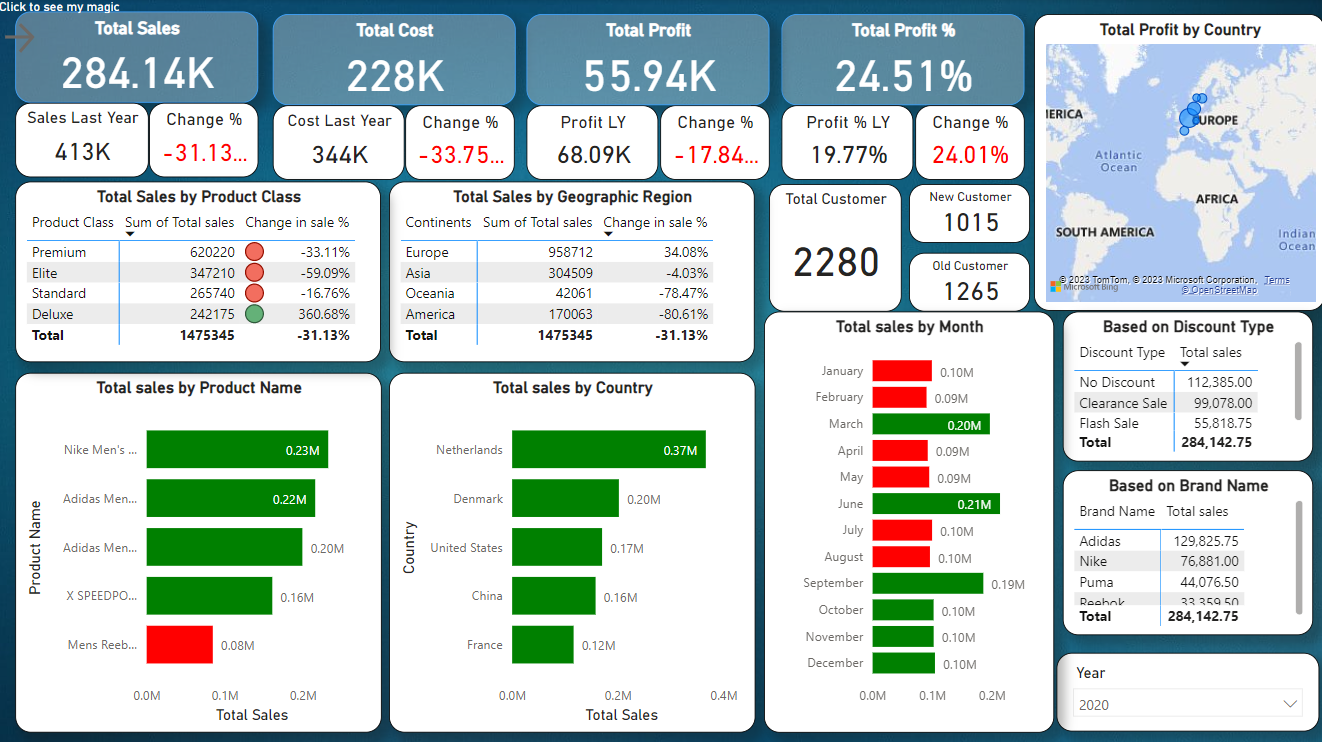

The dashboard page shown, as its layout file describes it:
{"tool":"powerbi","page":{"name":"Slide 1 (Final)","canvas":[1280,720],"ordinal":0},"visuals":[{"type":"card","title":"Total Sales ","fields":{"Values":["Measures Table.Total sales 2"]},"box":[15.9,12.3,234.2,88.3],"z":0},{"type":"card","title":"Total Cost ","fields":{"Values":["Measures Table.Total Cost 2"]},"box":[263.7,14.7,234.2,88.3],"z":1000},{"type":"card","title":"Total Profit %","fields":{"Values":["Measures Table.Total Profit % 2"]},"box":[755.4,14.7,234.2,88.3],"z":2000},{"type":"card","title":"Cost Last Year","fields":{"Values":["Measures Table.Cost Last Year"]},"box":[263.7,103,127.5,72.4],"z":3000},{"type":"card","title":"Sales Last Year","fields":{"Values":["Measures Table.Sales Last Year 2"]},"box":[15.9,100.6,128.8,72.4],"z":4000},{"type":"card","title":"Profit % LY","fields":{"Values":["Measures Table.Total Profit % Last Year"]},"box":[755.4,103,127.5,72.4],"z":5000},{"type":"card","title":"Change %","fields":{"Values":["Measures Table.change in cost %"]},"box":[392.4,103,105.5,72.4],"z":6000},{"type":"card","title":"Change %","fields":{"Values":["Measures Table.Profit % change"]},"box":[884.2,103,105.5,72.4],"z":7000},{"type":"card","title":"Change %","fields":{"Values":["Measures Table.Change in sale % 2"]},"box":[144.7,100.6,105.5,72.4],"z":8000},{"type":"card","title":"New Customer","fields":{"Values":["Measures Table.New Customer"]},"box":[878,178.5,117,56.7],"z":9000},{"type":"card","title":"Total Customer","fields":{"Values":["Measures Table.Total Customer"]},"box":[742.9,178.5,127.8,123],"z":10000},{"type":"map","fields":{"Size":["Measures Table.Total Profit 2"],"Category":["Location Details.Country"]},"box":[999.2,14.7,281.1,286.4],"z":11000},{"type":"slicer","fields":{"Values":["Calender Table.Year"]},"box":[1020,631.2,253.8,76.2],"z":12000},{"type":"card","title":"Total Profit","fields":{"Values":["Measures Table.Total Profit 2"]},"box":[508.9,14.7,234.2,88.3],"z":13000},{"type":"card","title":"Profit LY","fields":{"Values":["Measures Table.Profit Last Year"]},"box":[508.9,103,127.5,72.4],"z":14000},{"type":"card","title":"Change %","fields":{"Values":["Measures Table.Change in Profit %"]},"box":[637.7,103,105.5,72.4],"z":15000},{"type":"card","title":"Old Customer","fields":{"Values":["Measures Table.Old Customer"]},"box":[878,244.8,117,56.7],"z":16000},{"type":"pivotTable","title":"Total Sales by Geographic Region","fields":{"Rows":["Location Details.Continents"],"Values":["Sum(Sales Data.Total sales)","Measures Table.Change in sale % 2"]},"box":[376.5,176.6,353,174.1],"z":17000},{"type":"pivotTable","title":"Based on Discount Type","fields":{"Rows":["Sales Data.Discount Type"],"Values":["Measures Table.Total sales 2"]},"box":[1026.3,301.5,241.2,144.7],"z":18000},{"type":"clusteredBarChart","title":"Total sales by Product Name","fields":{"Category":["Products Details.Product Name"],"Y":["Sum(Sales Data.Total sales)"]},"box":[15.7,360.6,353.4,347.3],"z":19000},{"type":"clusteredBarChart","title":"Total sales by Country","fields":{"Category":["Sales Data.Country"],"Y":["Sum(Sales Data.Total sales)"]},"box":[376.3,360.6,353.4,347.3],"z":20000},{"type":"pivotTable","title":"Total Sales by Product Class","fields":{"Rows":["Sales Data.Product Class"],"Values":["Sum(Sales Data.Total sales)","Measures Table.Change in sale % 2"]},"box":[15.9,176.6,353.2,174.1],"z":21000},{"type":"clusteredBarChart","title":"Total sales by Month","fields":{"Y":["Sum(Sales Data.Total sales)"],"Category":["Calender Table.Date.Variation.Date Hierarchy.Month"]},"box":[738.1,301.5,279.8,406.4],"z":22000},{"type":"pivotTable","title":"Based on Brand Name","fields":{"Rows":["Products Details.Brand Name"],"Values":["Measures Table.Total sales 2"]},"box":[1026.2,454.2,241.8,159.6],"z":23000},{"type":"actionButton","title":"Click to see my magic ","box":[0,0,165.2,56.7],"z":24000}]}

Visuals, with their boxes in screenshot pixels (x1, y1, x2, y2), scaled from the page's 1280x720 canvas onto the 1322x742 screenshot:
"Total Sales " card: x1=16 y1=13 x2=258 y2=104
"Total Cost " card: x1=272 y1=15 x2=514 y2=106
"Total Profit %" card: x1=780 y1=15 x2=1022 y2=106
"Cost Last Year" card: x1=272 y1=106 x2=404 y2=181
"Sales Last Year" card: x1=16 y1=104 x2=149 y2=178
"Profit % LY" card: x1=780 y1=106 x2=912 y2=181
"Change %" card: x1=405 y1=106 x2=514 y2=181
"Change %" card: x1=913 y1=106 x2=1022 y2=181
"Change %" card: x1=149 y1=104 x2=258 y2=178
"New Customer" card: x1=907 y1=184 x2=1028 y2=242
"Total Customer" card: x1=767 y1=184 x2=899 y2=311
map - Measures Table.Total Profit 2 x Location Details.Country: x1=1032 y1=15 x2=1321 y2=310
slicer - Calender Table.Year: x1=1053 y1=650 x2=1316 y2=729
"Total Profit" card: x1=526 y1=15 x2=767 y2=106
"Profit LY" card: x1=526 y1=106 x2=657 y2=181
"Change %" card: x1=659 y1=106 x2=768 y2=181
"Old Customer" card: x1=907 y1=252 x2=1028 y2=311
"Total Sales by Geographic Region" pivotTable: x1=389 y1=182 x2=753 y2=361
"Based on Discount Type" pivotTable: x1=1060 y1=311 x2=1309 y2=460
"Total sales by Product Name" clusteredBarChart: x1=16 y1=372 x2=381 y2=730
"Total sales by Country" clusteredBarChart: x1=389 y1=372 x2=754 y2=730
"Total Sales by Product Class" pivotTable: x1=16 y1=182 x2=381 y2=361
"Total sales by Month" clusteredBarChart: x1=762 y1=311 x2=1051 y2=730
"Based on Brand Name" pivotTable: x1=1060 y1=468 x2=1310 y2=633
"Click to see my magic " actionButton: x1=0 y1=0 x2=171 y2=58
